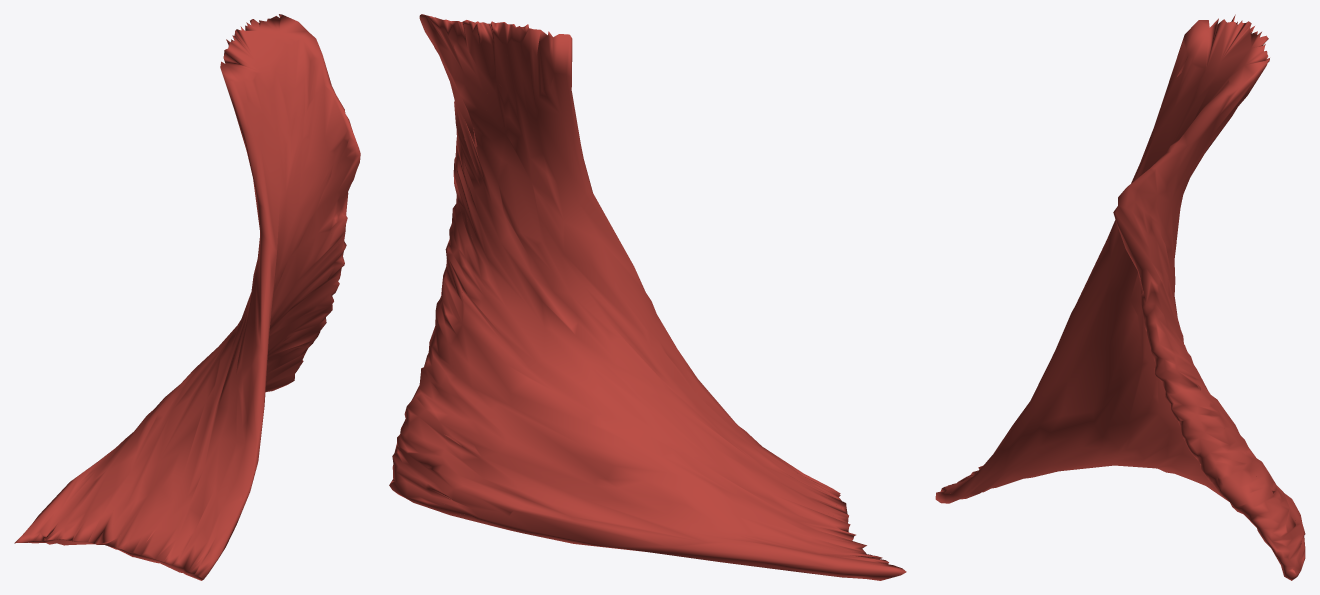
File: musculos-ascending-part-of-trapezius-muscle-r.glb
The picture shows the model from 3 angles, left to right: view 1: azimuth 30°, elevation 25°; view 2: azimuth 150°, elevation 25°; view 3: azimuth 270°, elevation 25°; orthographic projection. The views are drawn at different scales.
Parts seen in each view (by area): view 1: Ascending part of trapezius muscle.r; view 2: Ascending part of trapezius muscle.r; view 3: Ascending part of trapezius muscle.r.
Boxes of the visible parts, x1,y1,x2,y2 form: Ascending part of trapezius muscle.r: (14,14,360,580); Ascending part of trapezius muscle.r: (389,14,906,580); Ascending part of trapezius muscle.r: (935,14,1305,580).
Size of the model in its own units: 0.1351 by 0.1592 by 0.092.
